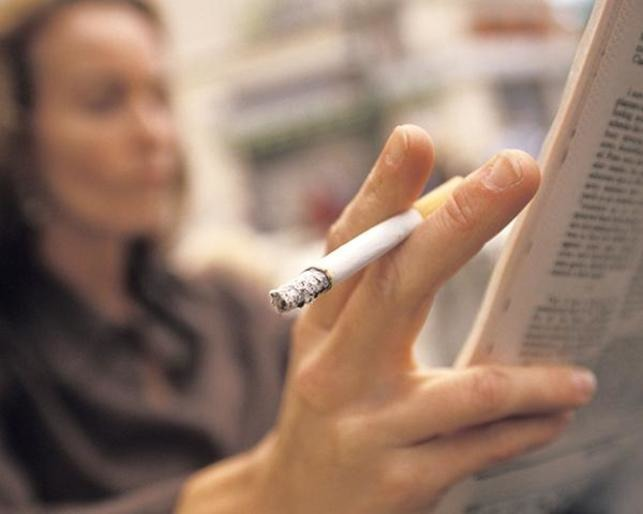cigarette: (264, 171, 473, 315)
